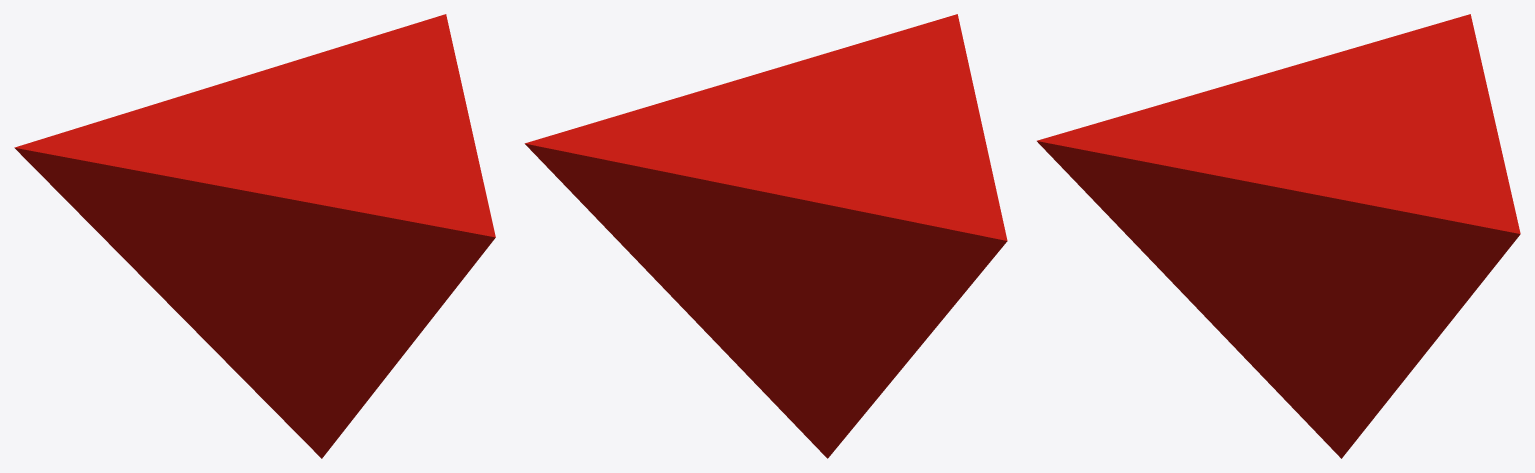
The model's file is sankaku.fbx.
3 renders of one model, left to right at view 1: azimuth 30°, elevation 25°; view 2: azimuth 150°, elevation 25°; view 3: azimuth 270°, elevation 25°, orthographic.
Parts seen in each view (by area): view 1: Cone; view 2: Cone; view 3: Cone.
Boxes of the visible parts, x1,y1,x2,y2 form: Cone: (14,14,495,458); Cone: (524,14,1007,458); Cone: (1037,14,1520,458).
Bounding box in the file's own units: 293 × 201 × 268.
